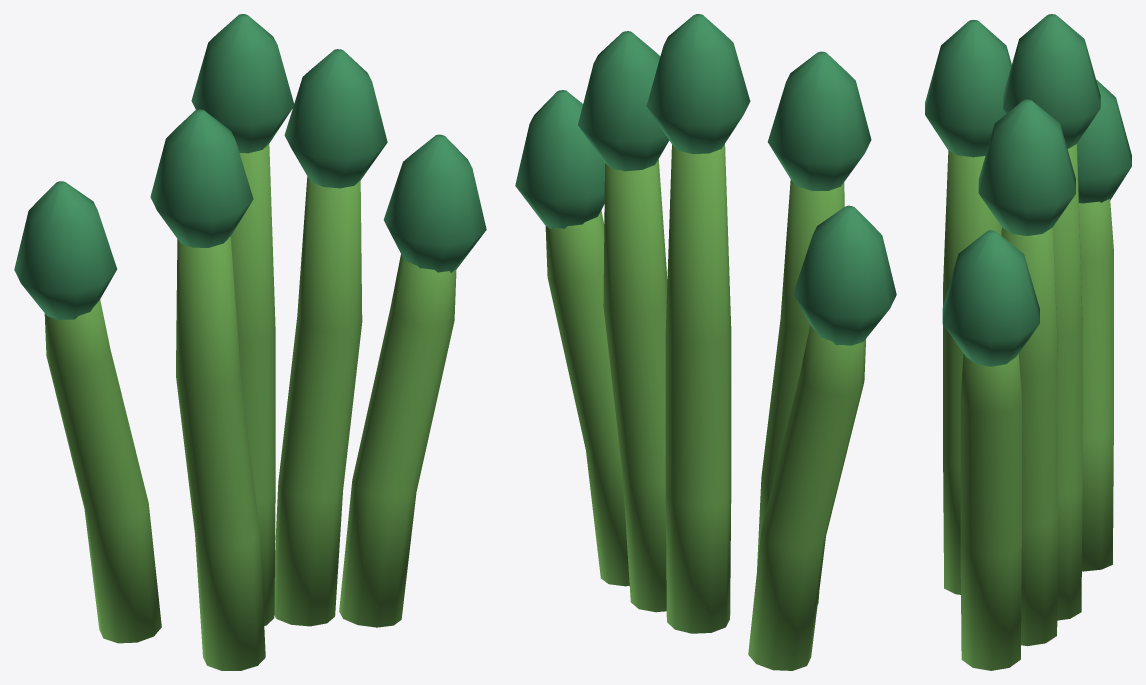
Rendered from asparagus.glb.
The picture shows the model from 3 angles, left to right: view 1: azimuth 30°, elevation 25°; view 2: azimuth 150°, elevation 25°; view 3: azimuth 270°, elevation 25°; orthographic projection. The views are drawn at different scales.
Parts seen in each view (by area): view 1: asparagus; view 2: asparagus; view 3: asparagus.
Part boxes in pixels (x1,y1,x2,y2): asparagus: (14,14,486,670); asparagus: (515,14,896,670); asparagus: (925,14,1131,670).
Size of the model in its own units: 0.422 by 0.5902 by 0.1859.
